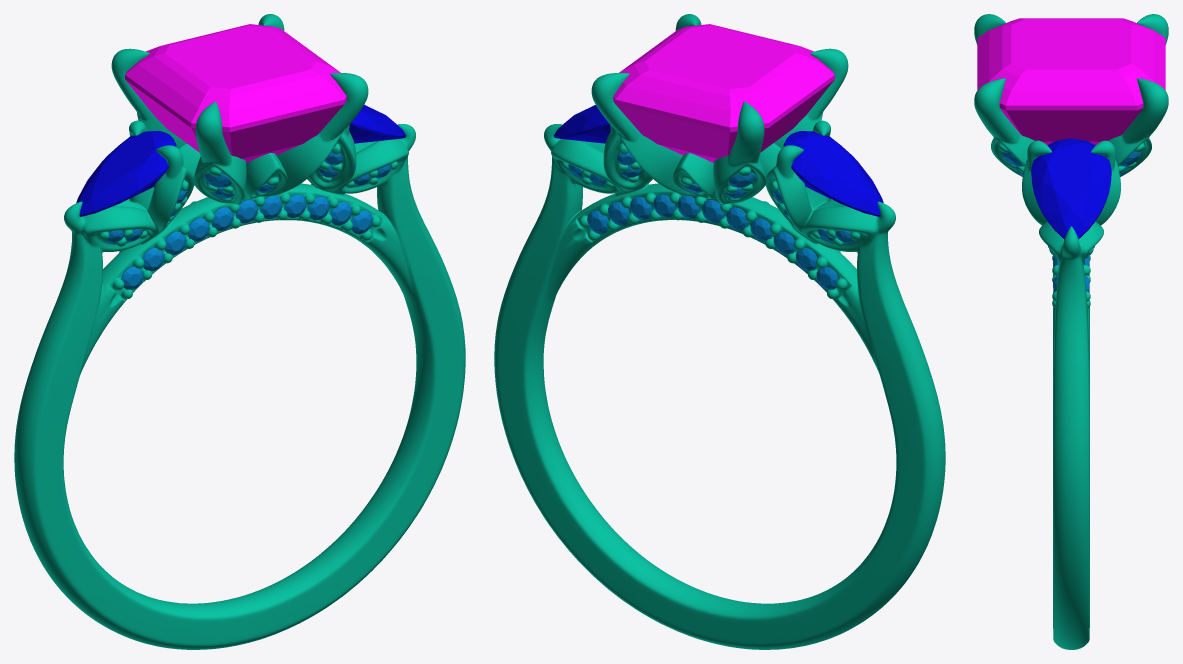
File: BE1D375_AS_200ct_RENDER.glb
3 views of the same model, side by side, from view 1: azimuth 30°, elevation 25°; view 2: azimuth 150°, elevation 25°; view 3: azimuth 270°, elevation 25° (orthographic).
Parts seen in each view (by area): view 1: Metal 01, CS_Diamond_Asscher, Diamond_Pear_side, Diamond_Pear_side.001; view 2: Metal 01, CS_Diamond_Asscher, Diamond_Pear_side, Diamond_Pear_side.001; view 3: Metal 01, CS_Diamond_Asscher, Diamond_Pear_side.001.
Boxes of the visible parts, x1,y1,x2,y2 form: Metal 01: (14,14,465,649); CS_Diamond_Asscher: (125,24,346,162); Diamond_Pear_side: (76,131,176,216); Diamond_Pear_side.001: (349,105,405,143); Metal 01: (494,14,945,649); CS_Diamond_Asscher: (613,24,834,162); Diamond_Pear_side: (783,131,883,216); Diamond_Pear_side.001: (554,105,610,143); Metal 01: (974,14,1168,649); CS_Diamond_Asscher: (977,18,1165,144); Diamond_Pear_side.001: (1031,138,1111,239).
Bounding box in the file's own units: 20.34 × 25.56 × 7.75.
